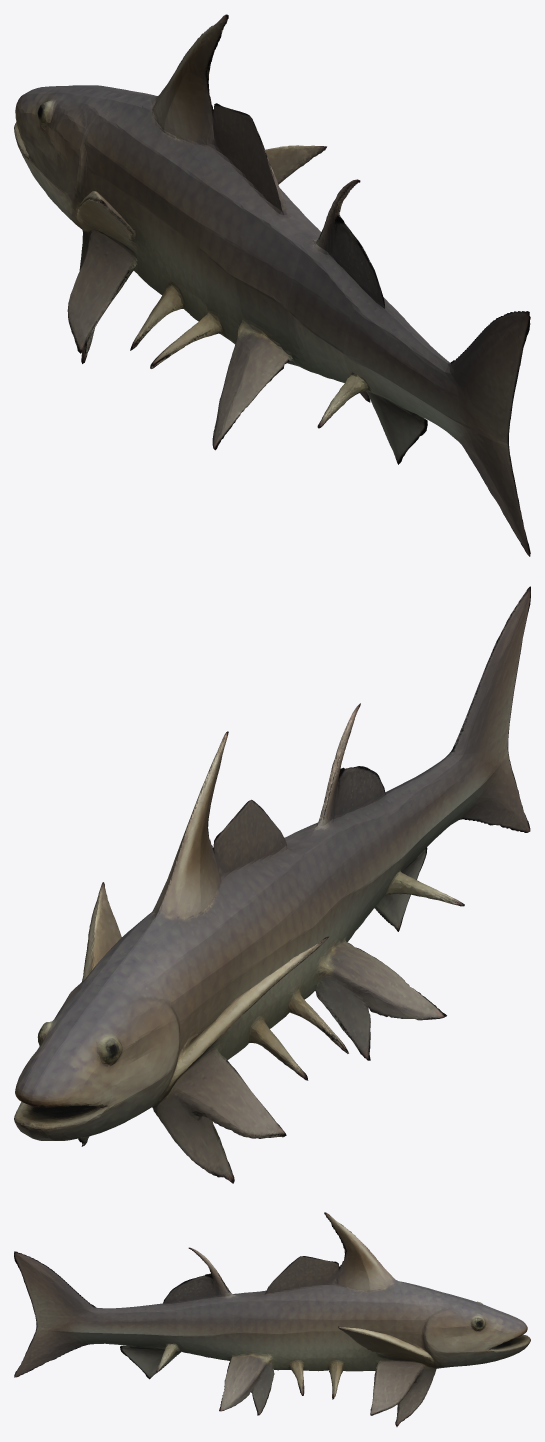
3 renders of one model, top to bottom at view 1: azimuth 30°, elevation 25°; view 2: azimuth 150°, elevation 25°; view 3: azimuth 270°, elevation 25°, orthographic. The views are drawn at different scales.
Parts seen in each view (by area): view 1: world; view 2: world; view 3: world.
Part boxes in pixels (bbox=[...]): world: bbox=[14, 14, 530, 556]; world: bbox=[14, 586, 530, 1183]; world: bbox=[14, 1212, 530, 1426].
Bounding box in the file's own units: 0.2649 × 0.4181 × 0.998.
Materials: 1 (1 with a texture image).
